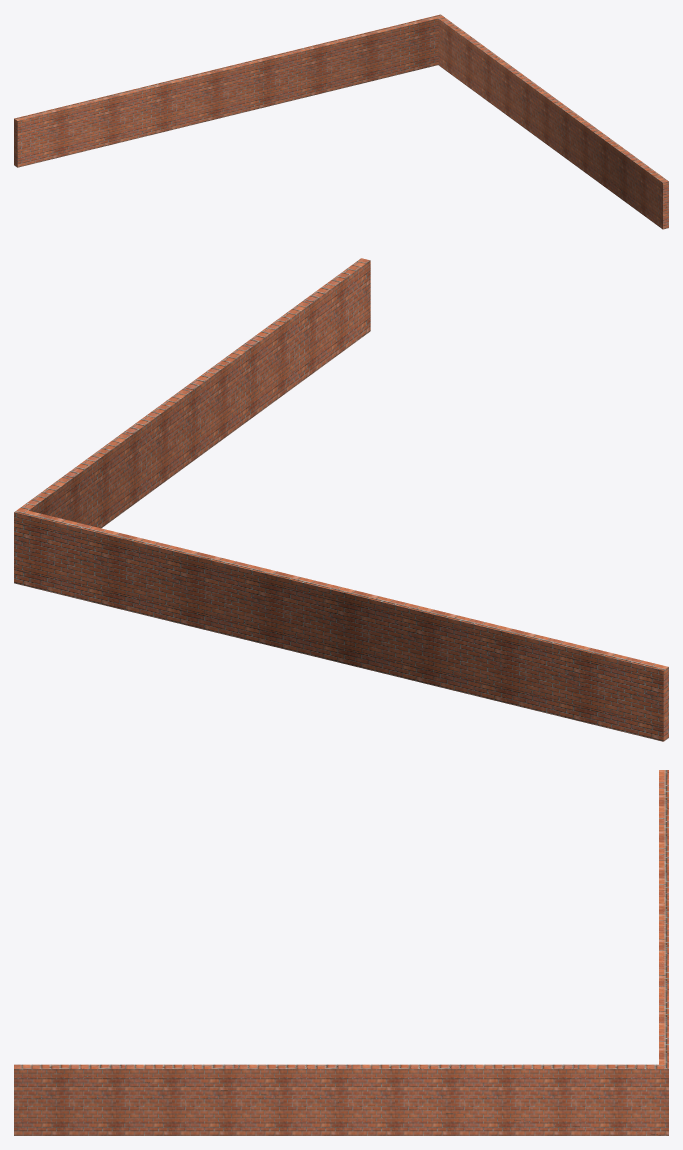
File: wall.FBX
3 views of the same model, one above another, from view 1: azimuth 30°, elevation 25°; view 2: azimuth 150°, elevation 25°; view 3: azimuth 270°, elevation 25° (orthographic). The views are drawn at different scales.
Visible parts, largest first — view 1: wall; view 2: wall; view 3: wall.
Part boxes in pixels (x1,y1,x2,y2): wall: (14,14,668,229); wall: (14,258,668,741); wall: (14,770,668,1135).
Size of the model in its own units: 3492 by 3234 by 365.
Materials: 1 (1 with a texture image).
